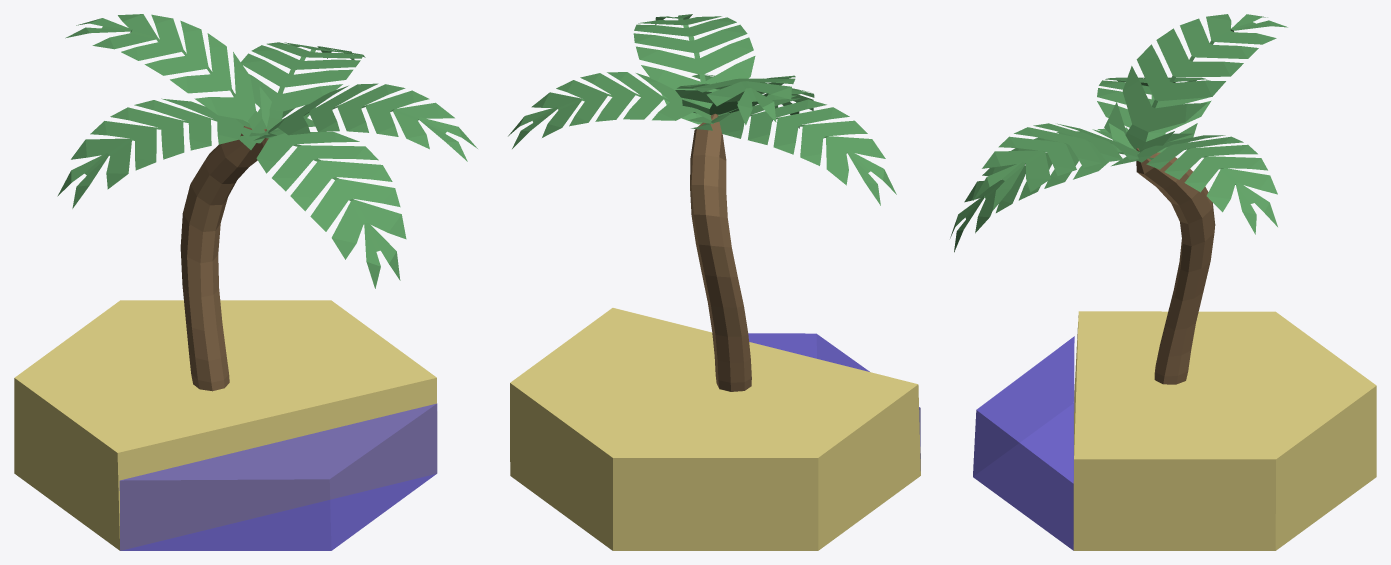
File: HexCell_Beach_Connect_4.glb
The picture shows the model from 3 angles, left to right: view 1: azimuth 30°, elevation 25°; view 2: azimuth 150°, elevation 25°; view 3: azimuth 270°, elevation 25°; orthographic projection. The views are drawn at different scales.
Visible parts, largest first — view 1: HexCell_Beach_Connect_4; view 2: HexCell_Beach_Connect_4; view 3: HexCell_Beach_Connect_4.
Part boxes in pixels (left/top/right/bottom): HexCell_Beach_Connect_4: left=14, top=14, right=477, bottom=550; HexCell_Beach_Connect_4: left=508, top=14, right=920, bottom=550; HexCell_Beach_Connect_4: left=950, top=14, right=1376, bottom=550.
Bounding box in the file's own units: 1.87 × 2.28 × 2.12.
